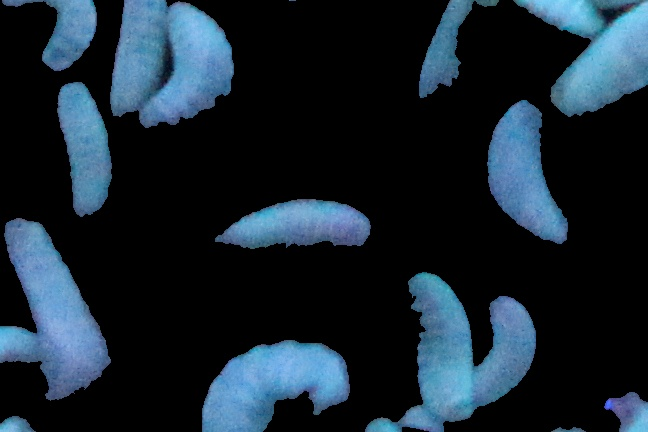larvae: (1, 212, 111, 393), (480, 81, 582, 262), (210, 178, 385, 271), (398, 268, 490, 429), (197, 340, 353, 428), (446, 288, 547, 417), (147, 3, 229, 157), (413, 1, 516, 122), (545, 6, 648, 117), (54, 80, 123, 230), (101, 1, 175, 134), (1, 1, 105, 78), (505, 1, 617, 48), (170, 1, 321, 9)
